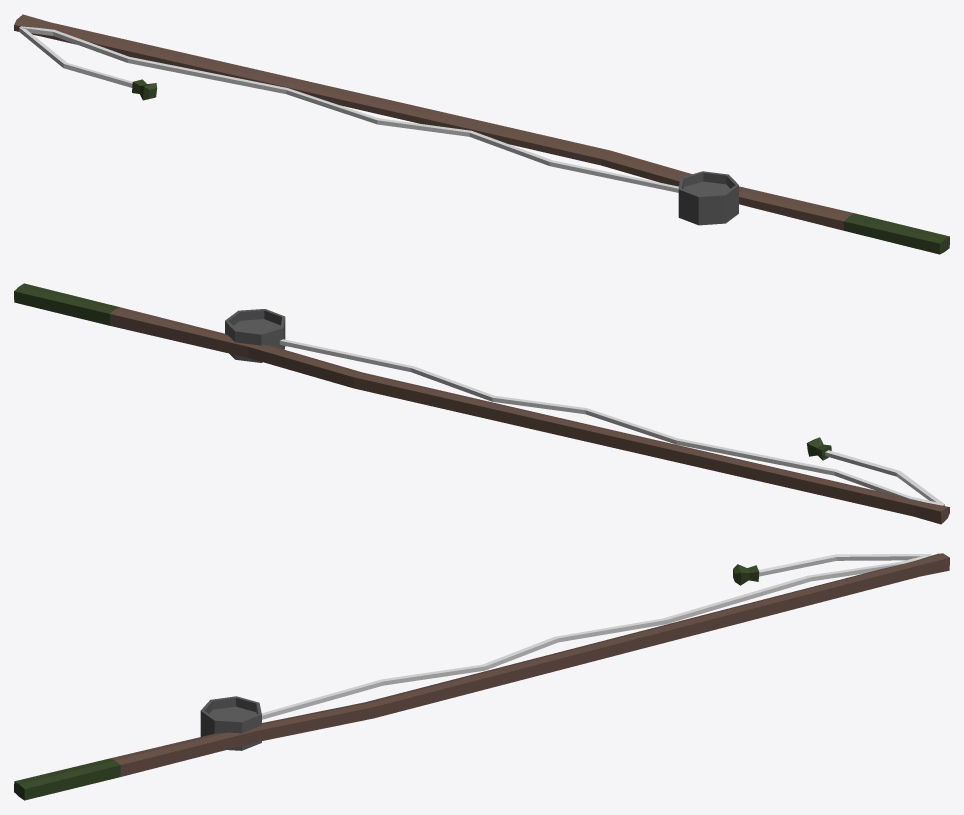
The model's file is fISHPOLE.fbx.
The picture shows the model from 3 angles, top to bottom: view 1: azimuth 30°, elevation 25°; view 2: azimuth 210°, elevation 25°; view 3: azimuth 270°, elevation 25°; orthographic projection.
Visible parts, largest first — view 1: TELTTAA.006; view 2: TELTTAA.006; view 3: TELTTAA.006.
Part boxes in pixels (x1=…): TELTTAA.006: x1=14, y1=14, x2=949, y2=254; TELTTAA.006: x1=14, y1=283, x2=949, y2=524; TELTTAA.006: x1=14, y1=553, x2=949, y2=800.
Size of the model in its own units: 239 by 13.33 by 396.
